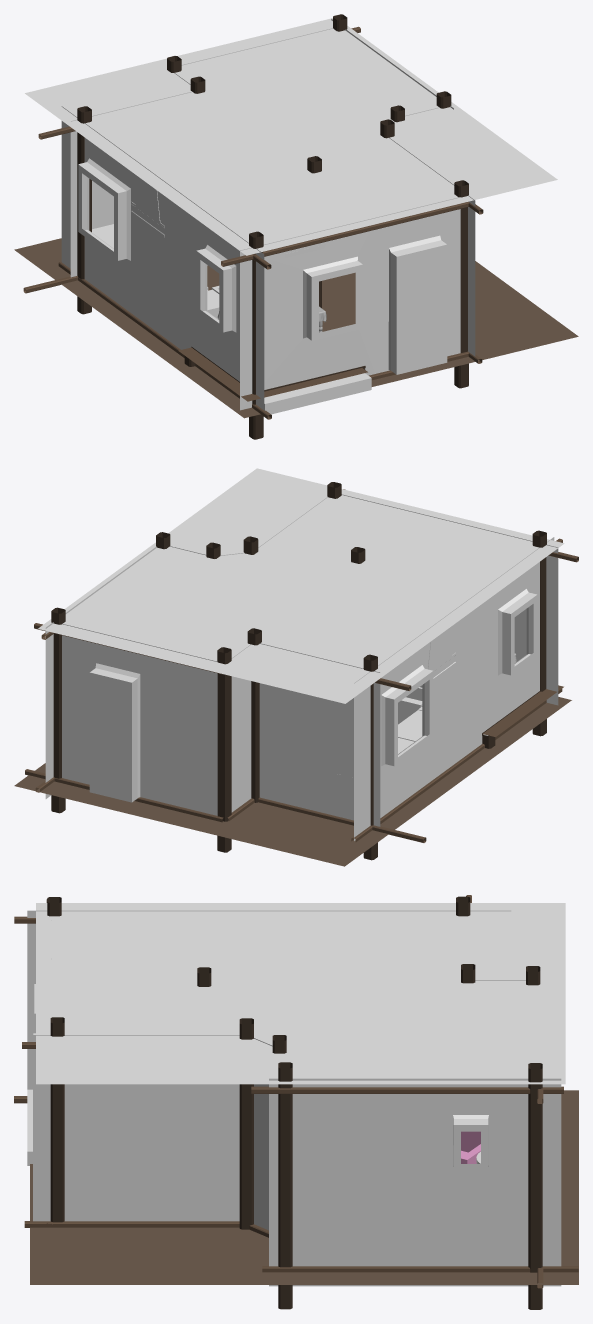
Rendered from RoomPlaceholder_fbx_001_Anna.fbx.
3 views of the same model, one above another, from view 1: azimuth 30°, elevation 25°; view 2: azimuth 150°, elevation 25°; view 3: azimuth 270°, elevation 25° (orthographic). The views are drawn at different scales.
Parts seen in each view (by area): view 1: Roof, Wall West, Wall North, Floor, Wall Northeast, Cube.001, Pillar.008, Floor_Raised, Edge.017, Wall Southwest, Pillar.006, Pillar.007 (+3 smaller); view 2: Roof, Wall Southeast, Wall North, Floor, Wall Northeast, Wall West, Wall East, Pillar.004, KitchenSurfaces, Pillar.003, Wall South, Pillar.007 (+7 smaller); view 3: Roof, Wall South, Wall Southwest, Floor, Pillar.003, Pillar.002, Pillar, Pillar.008, Wall North, Edge.004, Edge.012, Edge (+1 smaller).
Boxes of the visible parts, x1,y1,x2,y2 form: Roof: (25,18,557,255); Wall West: (240,197,460,410); Wall North: (61,106,264,410); Floor: (14,238,578,418); Wall Northeast: (70,91,192,277); Cube.001: (264,373,371,414); Pillar.008: (454,180,468,388); Floor_Raised: (178,347,367,401); Edge.017: (221,201,468,266); Wall Southwest: (389,107,475,356); Pillar.006: (77,106,91,314); Pillar.007: (249,231,263,439); Roof: (38,468,564,703); Wall Southeast: (62,623,217,815); Wall North: (354,537,554,840); Floor: (14,697,571,866); Wall Northeast: (259,643,380,826); Wall West: (341,494,558,705); Wall East: (231,644,251,812); Pillar.004: (217,647,231,852); KitchenSurfaces: (335,687,422,820); Pillar.003: (51,607,65,813); Wall South: (45,546,156,798); Pillar.007: (532,530,546,736); Roof: (36,903,565,1084); Wall South: (269,1078,561,1286); Wall Southwest: (33,1035,272,1230); Floor: (30,1090,578,1284); Pillar.003: (528,1063,542,1309); Pillar.002: (278,1062,292,1309); Pillar: (239,1018,253,1229); Pillar.008: (50,1017,64,1222); Wall North: (27,910,510,1089); Edge.004: (262,1266,578,1272); Edge.012: (251,1086,563,1093); Edge: (24,1221,239,1227).
Bounding box in the file's own units: 14485 × 7533 × 15897.
